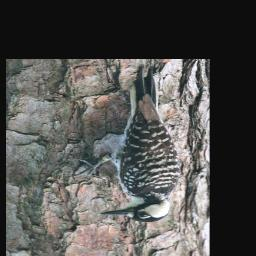Woodpecker: (68, 65, 186, 223)
